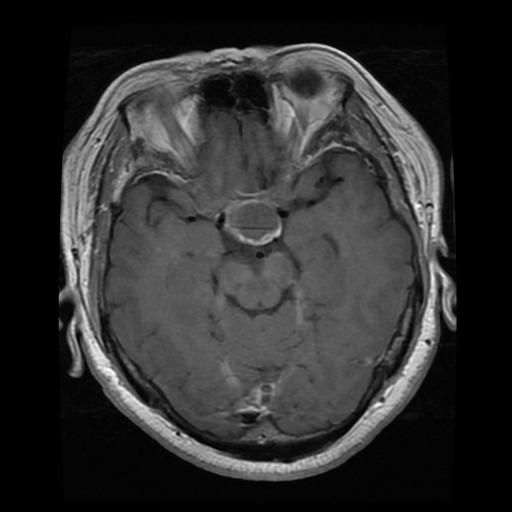Pituirity_tumour: (225, 196, 282, 245)
